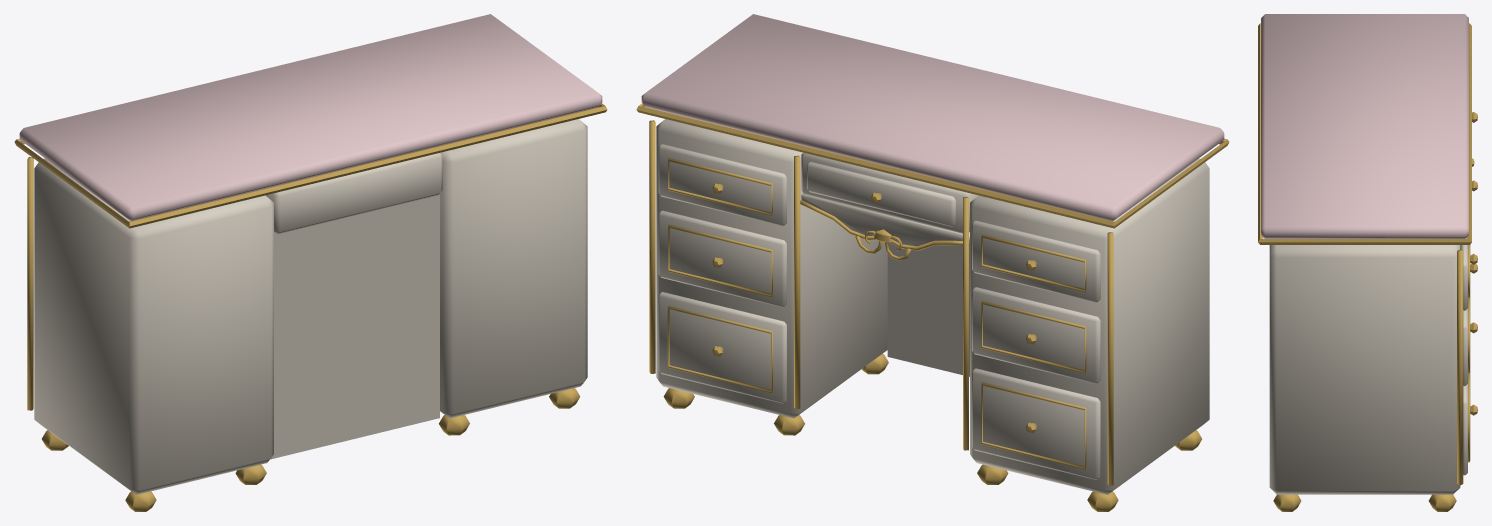
Rendered from vanity_marble.glb.
3 renders of one model, left to right at view 1: azimuth 30°, elevation 25°; view 2: azimuth 150°, elevation 25°; view 3: azimuth 270°, elevation 25°, orthographic. The views are drawn at different scales.
Parts seen in each view (by area): view 1: vanity_marble; view 2: vanity_marble; view 3: vanity_marble.
Part boxes in pixels (<box>): vanity_marble: <box>14,14,607,511</box>; vanity_marble: <box>636,14,1229,511</box>; vanity_marble: <box>1258,14,1477,511</box>.
Size of what is drawn, in the model's own units: 1.35 by 0.86 by 0.58.
